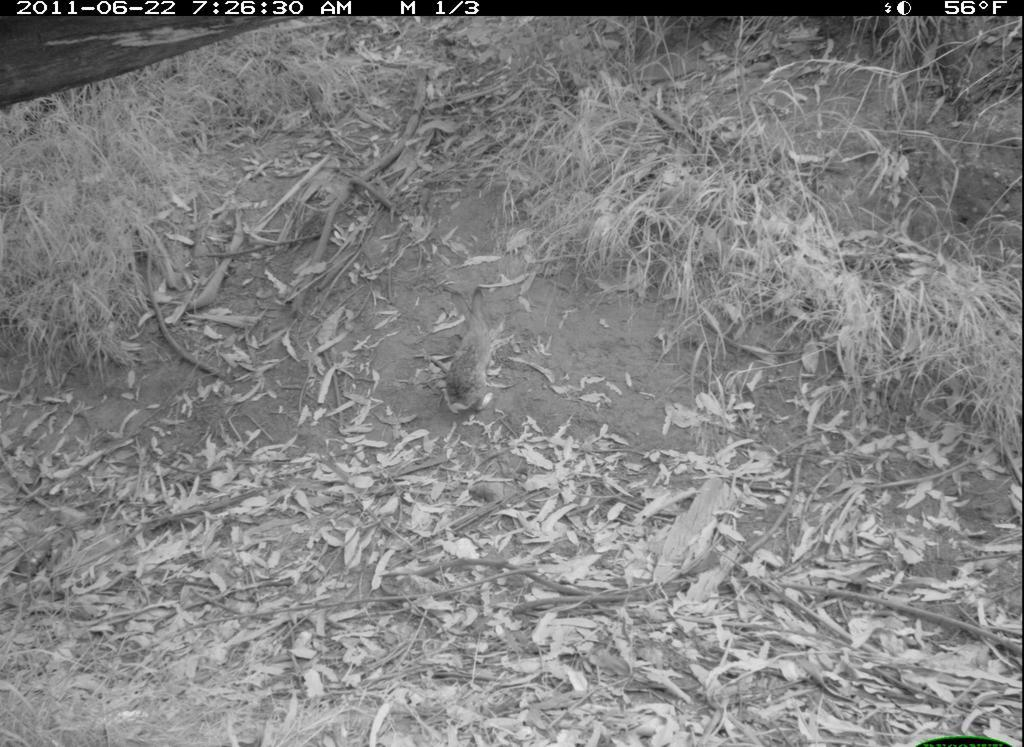rabbit: (420, 274, 540, 429)
